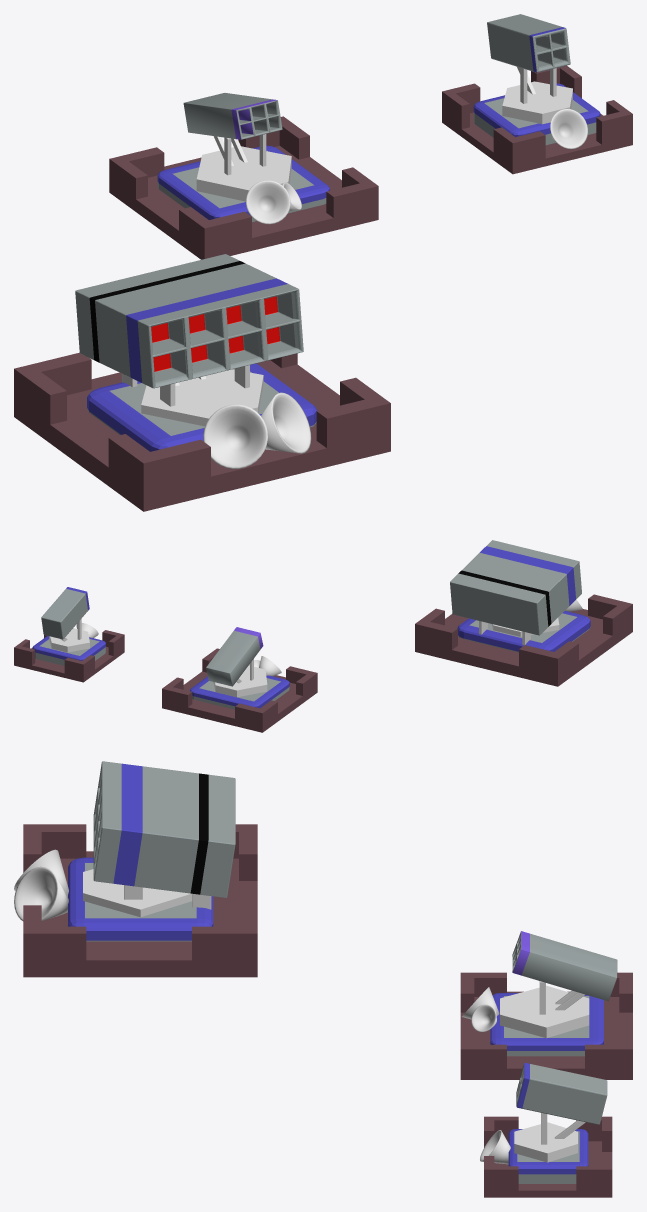
File: ByteSweeperFINAL.fbx
3 renders of one model, top to bottom at view 1: azimuth 30°, elevation 25°; view 2: azimuth 150°, elevation 25°; view 3: azimuth 270°, elevation 25°, orthographic. The views are drawn at different scales.
Visible parts, largest first — view 1: Platform.002, Cube.012, Platform.001, Platform, Stage.002, Cube.010, Cube.002, Stage.001, Cube.007, Cube.009, Cone.002, Cone.003 (+4 smaller); view 2: Cube.012, Platform.002, Platform.001, Stage.002, Platform, Cube.007, Cube.002, Stage.001, Stage, Cube.009, Cube, Cube.010; view 3: Cube.012, Platform.002, Platform.001, Stage.002, Platform, Cube.007, Cube.002, Stage.001, Cube.009, Cube.010, Stage, Cone.003 (+3 smaller).
Part boxes in pixels (left/top/right/bottom): Platform.002: left=14, top=352, right=390, bottom=511; Cube.012: left=75, top=254, right=303, bottom=388; Platform.001: left=109, top=116, right=378, bottom=259; Platform: left=442, top=65, right=632, bottom=174; Stage.002: left=87, top=363, right=317, bottom=451; Cube.010: left=141, top=369, right=263, bottom=426; Cube.002: left=487, top=14, right=570, bottom=72; Stage.001: left=157, top=145, right=329, bottom=221; Cube.007: left=183, top=93, right=282, bottom=139; Cube.009: left=196, top=146, right=291, bottom=201; Cone.002: left=203, top=404, right=267, bottom=469; Cone.003: left=261, top=392, right=311, bottom=453; Cube.012: left=450, top=540, right=581, bottom=635; Platform.002: left=415, top=594, right=632, bottom=686; Platform.001: left=162, top=648, right=317, bottom=732; Stage.002: left=457, top=611, right=590, bottom=652; Platform: left=14, top=630, right=124, bottom=682; Cube.007: left=206, top=627, right=263, bottom=686; Cube.002: left=41, top=587, right=89, bottom=639; Stage.001: left=190, top=675, right=289, bottom=709; Stage: left=32, top=636, right=105, bottom=665; Cube.009: left=213, top=665, right=267, bottom=697; Cube: left=49, top=628, right=89, bottom=652; Cube.010: left=491, top=618, right=559, bottom=636; Cube.012: left=93, top=761, right=235, bottom=897; Platform.002: left=23, top=824, right=257, bottom=977; Platform.001: left=460, top=972, right=632, bottom=1079; Stage.002: left=68, top=857, right=213, bottom=941; Platform: left=484, top=1116, right=612, bottom=1197; Cube.007: left=512, top=931, right=617, bottom=1001; Cube.002: left=516, top=1063, right=607, bottom=1124; Stage.001: left=490, top=993, right=603, bottom=1056; Cube.009: left=500, top=985, right=589, bottom=1038; Cube.010: left=83, top=869, right=192, bottom=917; Stage: left=508, top=1129, right=588, bottom=1183; Cone.003: left=14, top=866, right=68, bottom=921.
Bounding box in the file's own units: 555 × 109 × 442.
